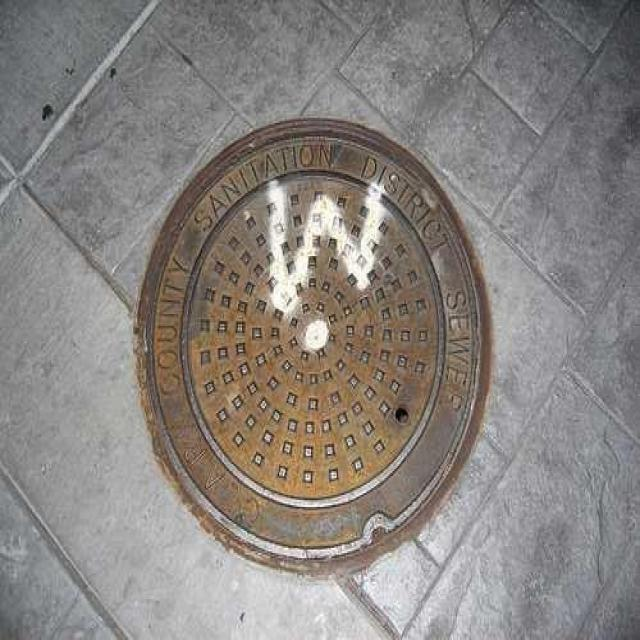manhole: (136, 120, 490, 572)
